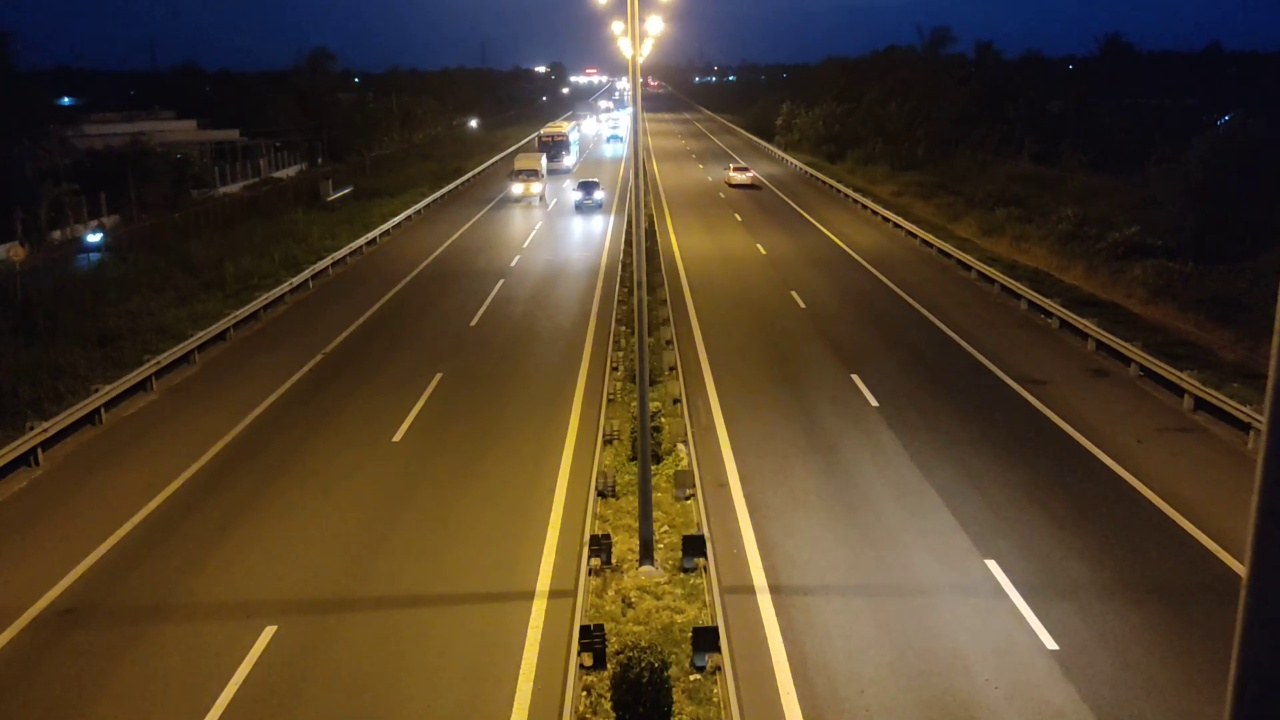bus: (535, 119, 581, 173)
car: (573, 177, 605, 211), (725, 163, 761, 188)
